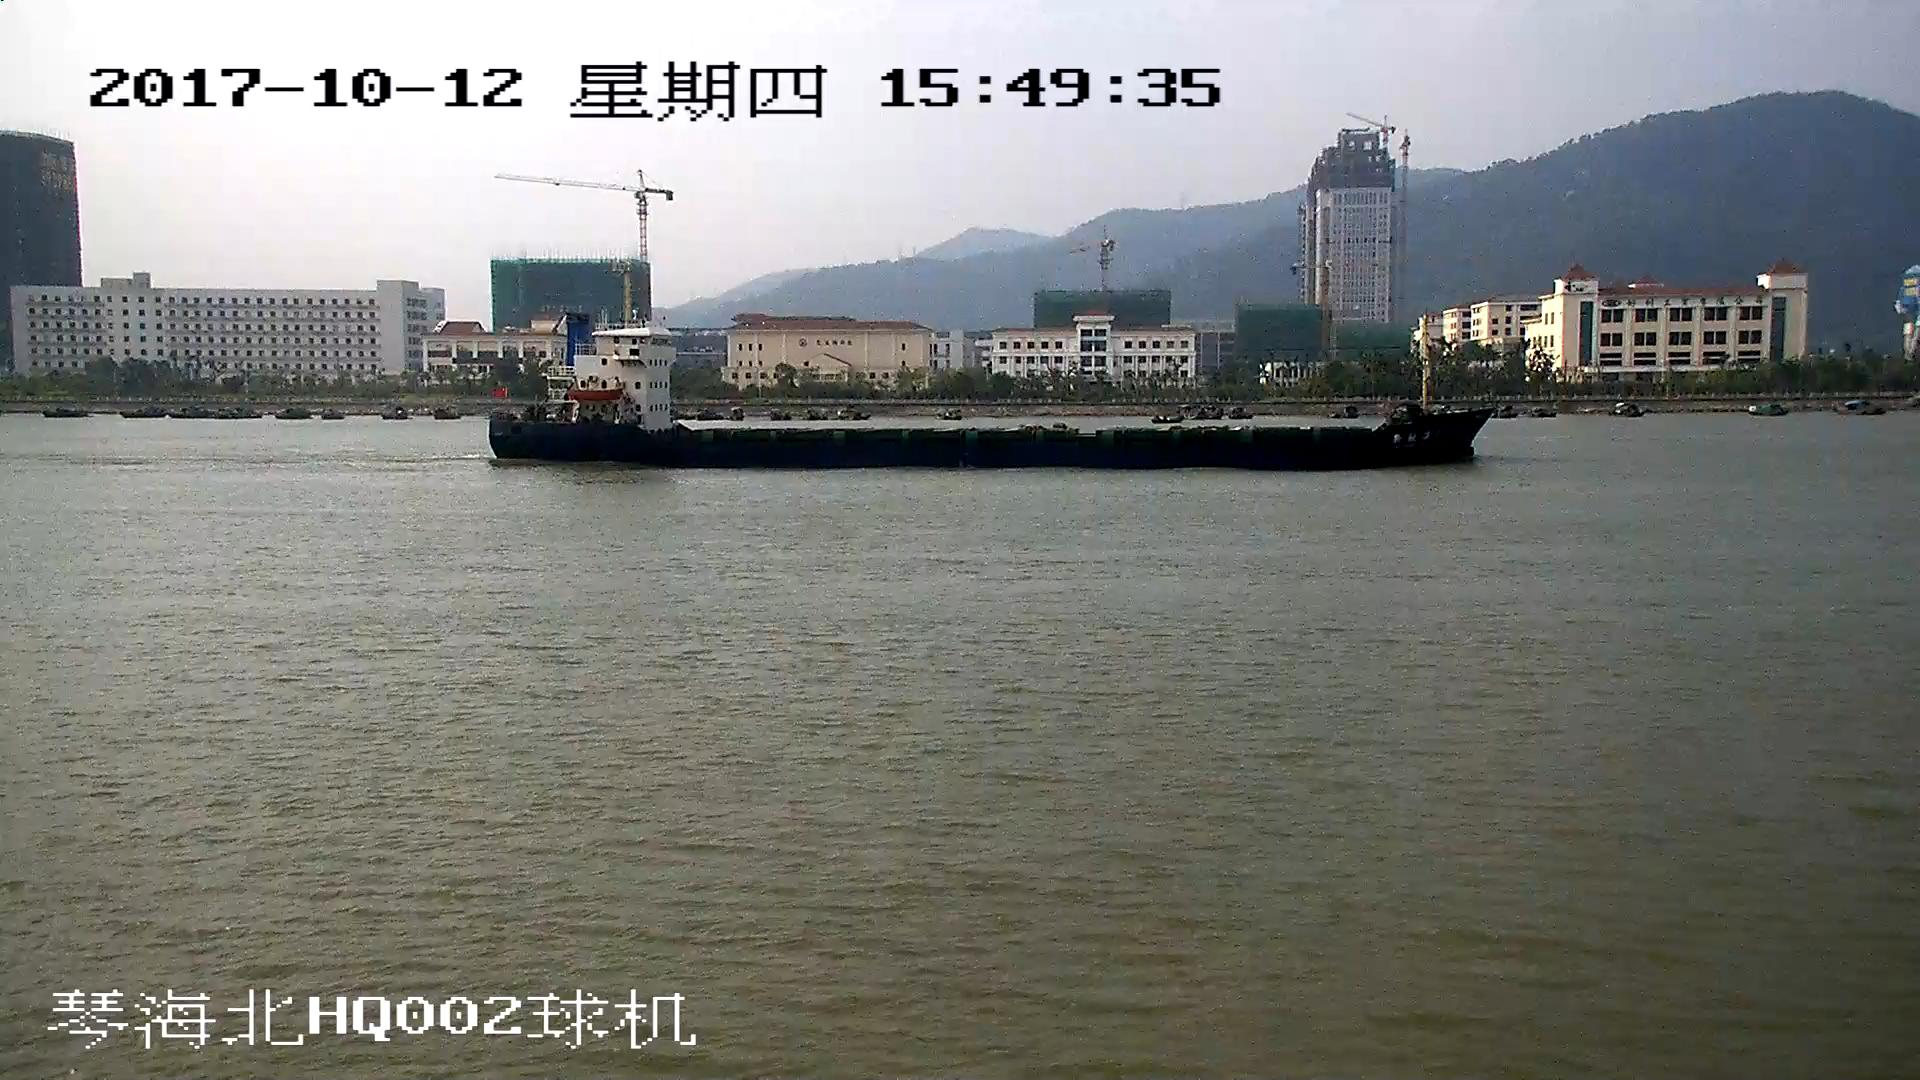general cargo ship: (488, 262, 1488, 465)
